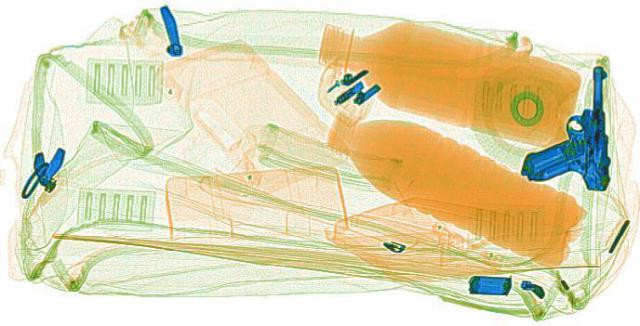Gun: (526, 61, 616, 187)
